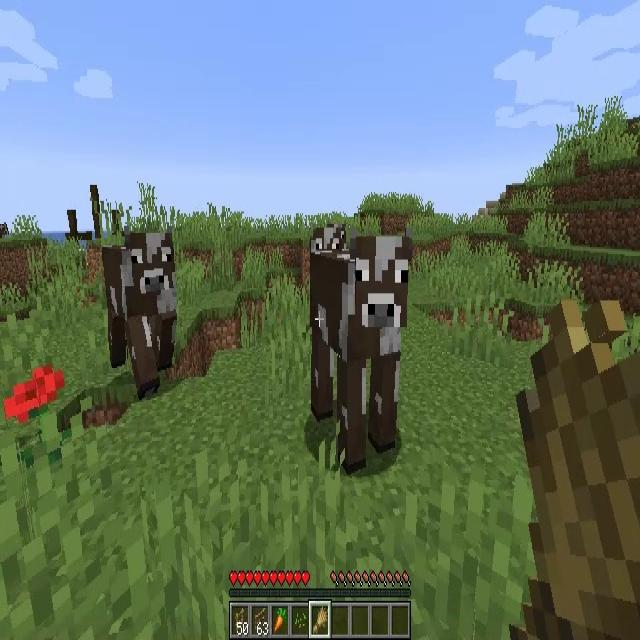cow: (313, 238, 407, 466), (104, 231, 174, 381), (309, 225, 345, 330)
